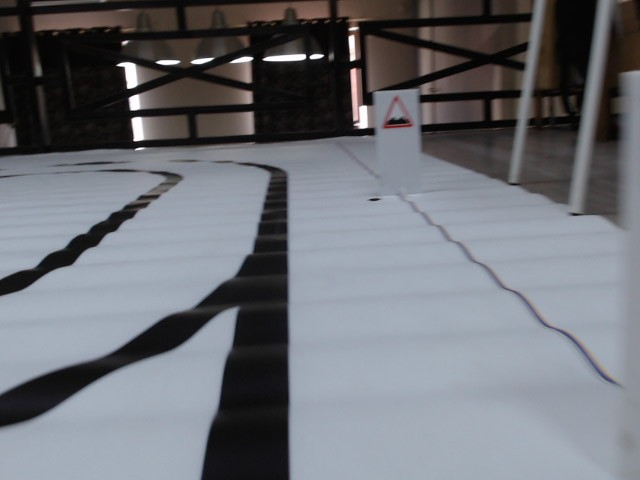Nerov: (379, 96, 415, 133)
